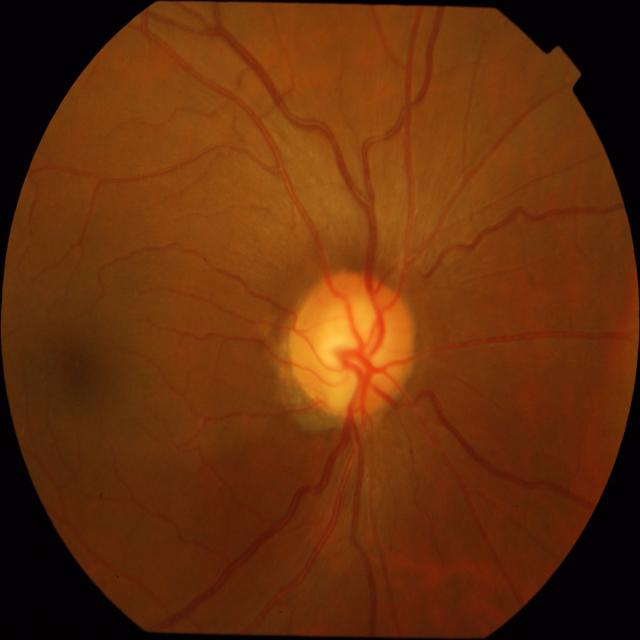OC: (314, 298, 392, 412)
OD: (289, 271, 414, 417)
